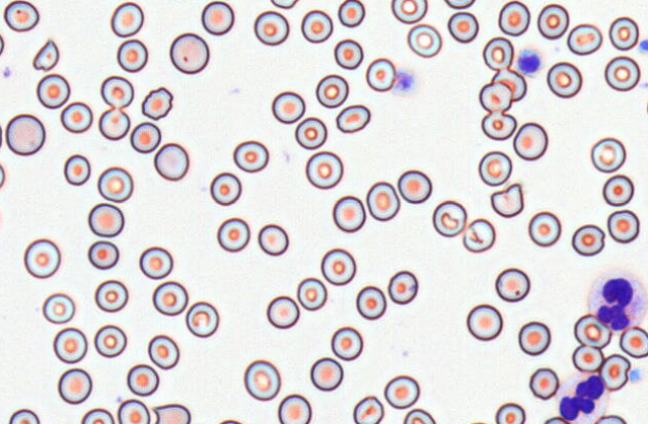GRAN: (592, 268, 648, 329), (557, 369, 608, 423)
PLT: (516, 49, 545, 77), (393, 69, 418, 95), (628, 368, 644, 385), (638, 38, 648, 56)
RBC: (169, 32, 209, 74), (5, 113, 45, 155), (243, 359, 280, 401), (305, 150, 343, 189), (23, 238, 60, 278), (512, 121, 548, 160), (153, 142, 189, 181), (365, 181, 400, 221), (573, 313, 611, 349), (466, 303, 502, 341), (320, 247, 356, 285), (546, 61, 582, 98), (97, 166, 133, 202), (152, 280, 188, 316), (590, 137, 626, 173), (604, 55, 640, 91), (57, 367, 92, 404), (87, 202, 124, 237), (406, 23, 442, 58), (494, 267, 530, 302), (253, 10, 289, 45), (52, 327, 87, 363), (383, 374, 419, 409), (432, 200, 466, 237), (110, 1, 144, 37), (36, 73, 70, 109), (478, 150, 512, 186), (185, 301, 219, 337), (528, 210, 561, 247), (332, 195, 365, 232), (309, 356, 343, 391), (397, 169, 432, 203), (216, 217, 250, 252), (599, 353, 630, 391), (271, 90, 305, 124), (491, 68, 526, 101), (462, 217, 495, 252), (315, 73, 348, 108), (201, 0, 234, 35), (138, 246, 173, 279), (3, 0, 39, 32), (498, 0, 530, 36), (566, 23, 602, 55), (537, 3, 569, 39), (232, 140, 268, 172), (100, 75, 134, 108), (93, 324, 127, 357), (571, 223, 605, 256), (266, 295, 299, 329), (607, 209, 640, 243), (330, 326, 363, 360), (94, 279, 128, 312), (300, 9, 333, 43), (147, 334, 179, 369), (126, 363, 159, 396), (294, 116, 327, 149), (482, 36, 514, 70), (141, 86, 173, 120), (518, 321, 550, 355), (116, 38, 148, 72), (209, 171, 241, 205), (365, 57, 396, 92), (355, 285, 386, 320), (98, 107, 130, 140), (60, 101, 93, 133), (42, 292, 75, 324), (608, 16, 639, 50), (277, 393, 311, 424), (602, 174, 634, 206), (479, 81, 512, 112), (528, 367, 559, 400), (296, 277, 327, 310), (387, 270, 417, 304), (481, 111, 516, 140), (335, 104, 370, 133), (130, 121, 161, 153), (257, 223, 288, 255), (447, 11, 478, 43), (619, 325, 648, 358), (333, 38, 363, 69), (87, 240, 119, 269), (352, 395, 384, 424), (571, 344, 604, 372), (117, 398, 150, 424), (390, 0, 427, 23), (63, 154, 90, 185), (337, 0, 365, 27), (494, 402, 525, 424), (80, 407, 115, 424), (402, 408, 436, 424), (8, 408, 40, 423), (594, 414, 627, 424), (443, 0, 475, 9), (270, 0, 299, 9), (542, 416, 570, 424), (216, 419, 245, 424), (0, 161, 5, 189), (0, 31, 4, 57), (0, 203, 3, 235), (0, 120, 3, 152), (462, 421, 491, 424), (646, 95, 648, 119)
Schistocyte: (491, 181, 524, 219), (31, 38, 61, 72), (153, 403, 190, 424)
